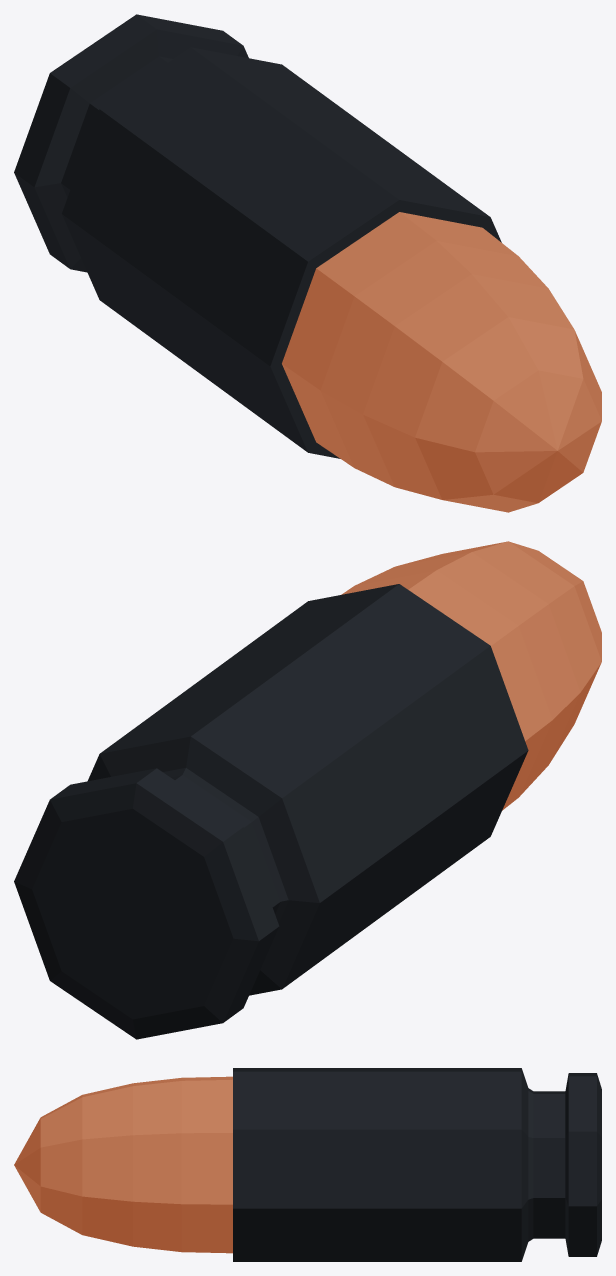
File: simpleBullet.fbx
3 views of the same model, one above another, from view 1: azimuth 30°, elevation 25°; view 2: azimuth 150°, elevation 25°; view 3: azimuth 270°, elevation 25° (orthographic). The views are drawn at different scales.
Visible parts, largest first — view 1: bullet; view 2: bullet; view 3: bullet.
Boxes of the visible parts, bbox=[...] form: bullet: bbox=[14, 14, 601, 512]; bullet: bbox=[14, 541, 601, 1039]; bullet: bbox=[14, 1068, 601, 1261].
Bounding box in the file's own units: 200 × 200 × 570.
